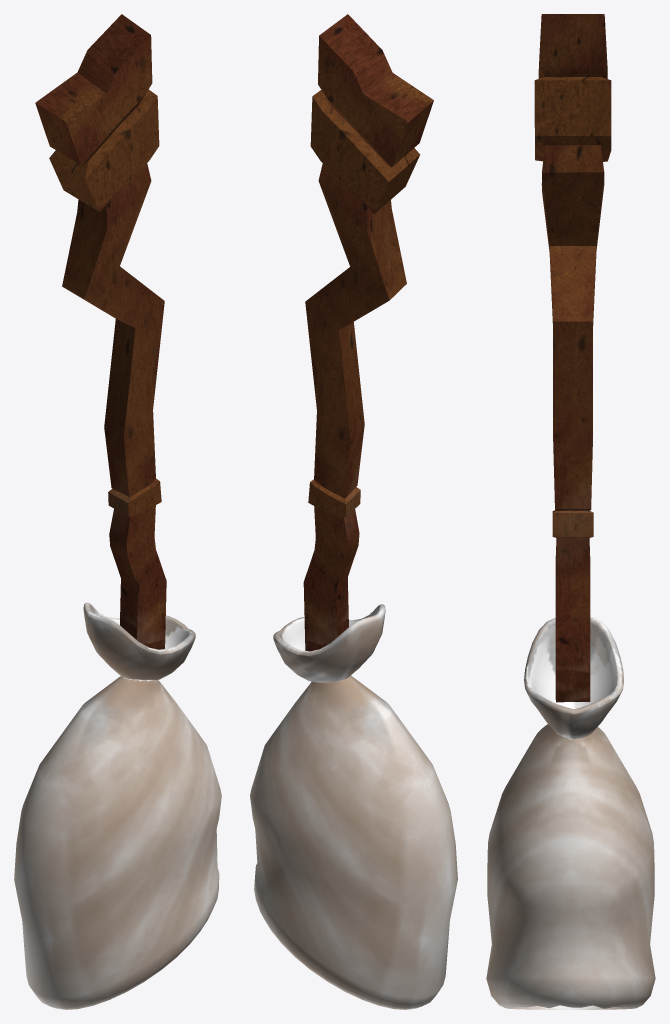
Rendered from Vassoura 1.fbx.
3 renders of one model, left to right at view 1: azimuth 30°, elevation 25°; view 2: azimuth 150°, elevation 25°; view 3: azimuth 270°, elevation 25°, orthographic. The views are drawn at different scales.
Parts seen in each view (by area): view 1: Cube; view 2: Cube; view 3: Cube.
Boxes of the visible parts, box(x1,y1,x2,y2) form: Cube: box(14, 14, 221, 1009); Cube: box(250, 14, 457, 1009); Cube: box(486, 14, 655, 1009).
Size of the model in its own units: 30.18 by 146 by 21.5.
